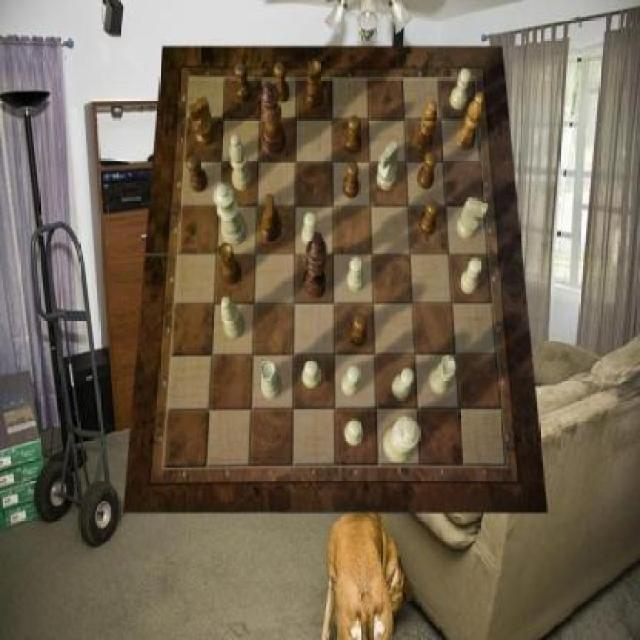bishop: (457, 92, 485, 151), (414, 102, 438, 156)
black-bishop: (303, 232, 328, 300)
black-king: (190, 97, 216, 148), (262, 194, 282, 241)
black-knight: (186, 155, 209, 193), (417, 151, 437, 189), (420, 199, 440, 236), (346, 117, 363, 157), (274, 63, 291, 103), (234, 63, 251, 102), (343, 162, 360, 199), (349, 314, 367, 348)
black-pawn: (258, 81, 286, 156)
black-queen: (304, 60, 324, 111), (217, 243, 241, 285)
black-rook: (231, 136, 254, 192), (222, 297, 246, 339)
white-bishop: (383, 415, 420, 463)
white-king: (457, 197, 489, 239), (377, 142, 399, 190)
white-knight: (451, 69, 471, 111), (460, 258, 483, 294), (392, 368, 415, 400), (342, 365, 361, 397), (302, 214, 319, 248), (348, 257, 364, 291), (344, 419, 364, 446), (303, 360, 321, 388)
white-pawn: (214, 182, 248, 246)
white-queen: (429, 355, 456, 394), (260, 360, 282, 400)
